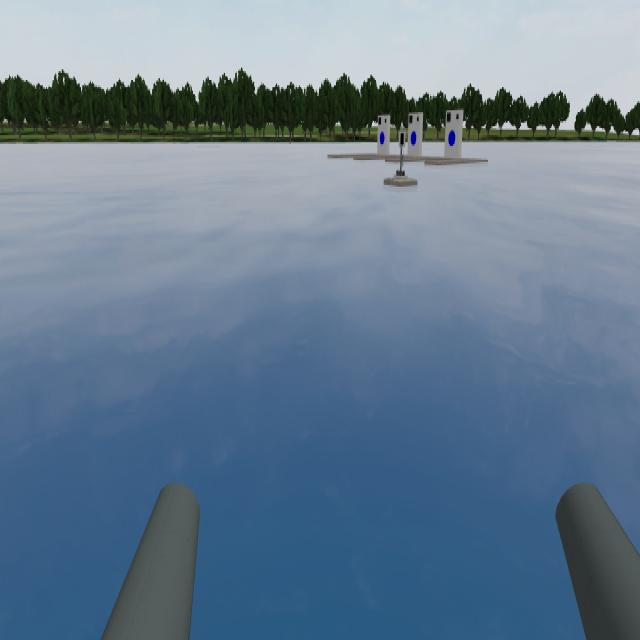black_pole: (393, 122, 410, 155)
